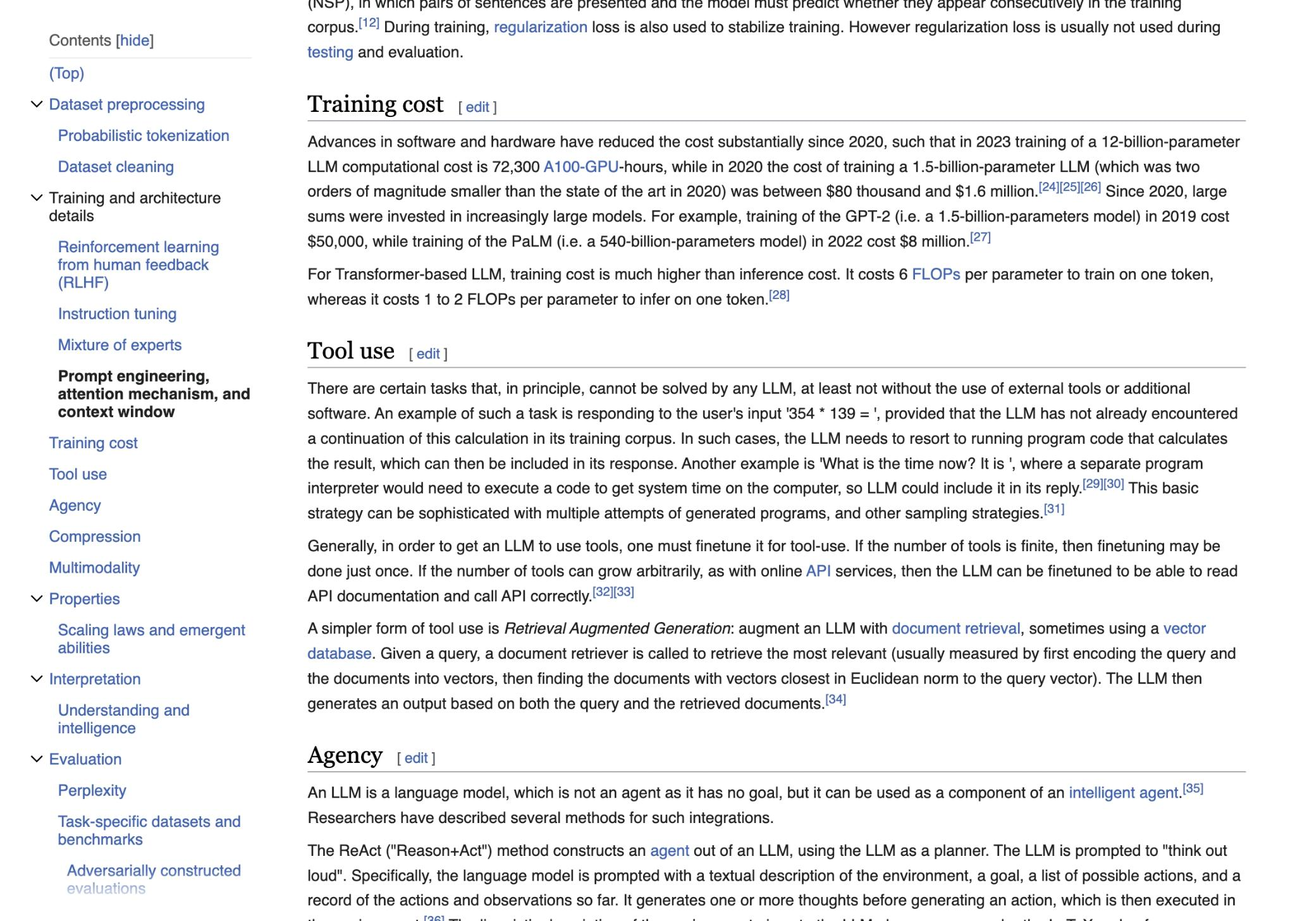webelement: (307, 375, 1245, 525), (307, 128, 1245, 253), (307, 615, 1245, 715), (307, 837, 1245, 921), (307, 533, 1245, 607), (307, 261, 1245, 311), (307, 780, 1245, 830), (307, 619, 1205, 661), (57, 230, 250, 296), (57, 359, 250, 425), (48, 180, 250, 229), (57, 613, 250, 662), (57, 693, 250, 742), (57, 804, 250, 853), (66, 854, 250, 902), (48, 56, 250, 87), (48, 87, 250, 118), (48, 426, 250, 457), (48, 457, 250, 488), (48, 488, 250, 519), (48, 519, 250, 550), (48, 550, 250, 581), (48, 582, 250, 613), (48, 662, 250, 693), (48, 742, 250, 773), (57, 118, 250, 149), (57, 149, 250, 180), (57, 296, 250, 327), (57, 328, 250, 359), (57, 773, 250, 804), (306, 89, 442, 116), (48, 903, 250, 921), (306, 336, 393, 363), (892, 618, 1019, 636), (1068, 783, 1177, 801), (307, 741, 381, 767), (493, 17, 586, 35), (543, 156, 617, 174), (911, 264, 960, 282), (307, 42, 352, 60), (650, 840, 688, 858), (115, 30, 152, 48), (23, 88, 47, 113), (23, 182, 47, 206), (23, 583, 47, 607), (23, 663, 47, 687), (23, 743, 47, 767), (806, 561, 830, 578), (464, 98, 488, 114), (416, 345, 439, 361), (404, 749, 427, 765), (970, 229, 991, 243), (768, 286, 789, 300), (1081, 476, 1102, 490), (1102, 476, 1123, 490), (1043, 501, 1064, 515), (592, 584, 613, 598), (612, 584, 633, 598), (825, 691, 846, 705), (1181, 780, 1202, 794), (1038, 180, 1059, 193), (1059, 180, 1080, 193), (1079, 180, 1100, 193), (358, 15, 378, 28), (422, 913, 443, 921), (408, 345, 413, 361), (442, 345, 447, 361), (430, 749, 435, 765), (457, 98, 461, 114), (492, 98, 496, 114), (396, 749, 400, 765)
